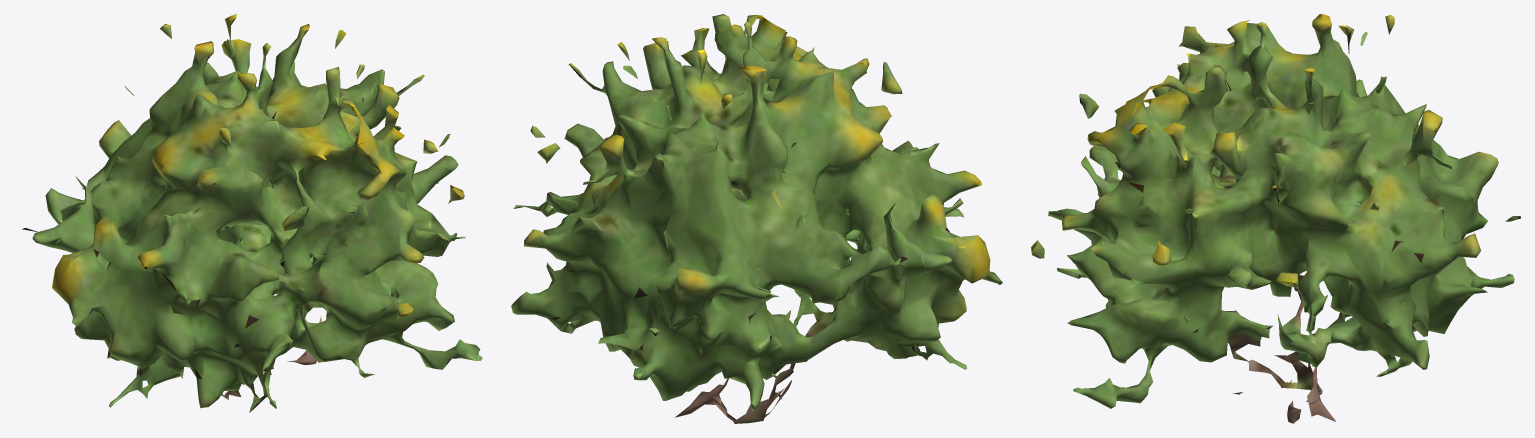
The model's file is BushYellowFlowers.glb.
3 renders of one model, left to right at view 1: azimuth 30°, elevation 25°; view 2: azimuth 150°, elevation 25°; view 3: azimuth 270°, elevation 25°, orthographic. The views are drawn at different scales.
Visible parts, largest first — view 1: BushYellowFlowers; view 2: BushYellowFlowers; view 3: BushYellowFlowers.
Part boxes in pixels (x1,y1,x2,y2): BushYellowFlowers: [22, 14, 482, 412]; BushYellowFlowers: [511, 14, 1002, 423]; BushYellowFlowers: [1031, 14, 1520, 423].
Bounding box in the file's own units: 1.24 × 1.02 × 1.19.
Materials: 1 (1 with a texture image).
